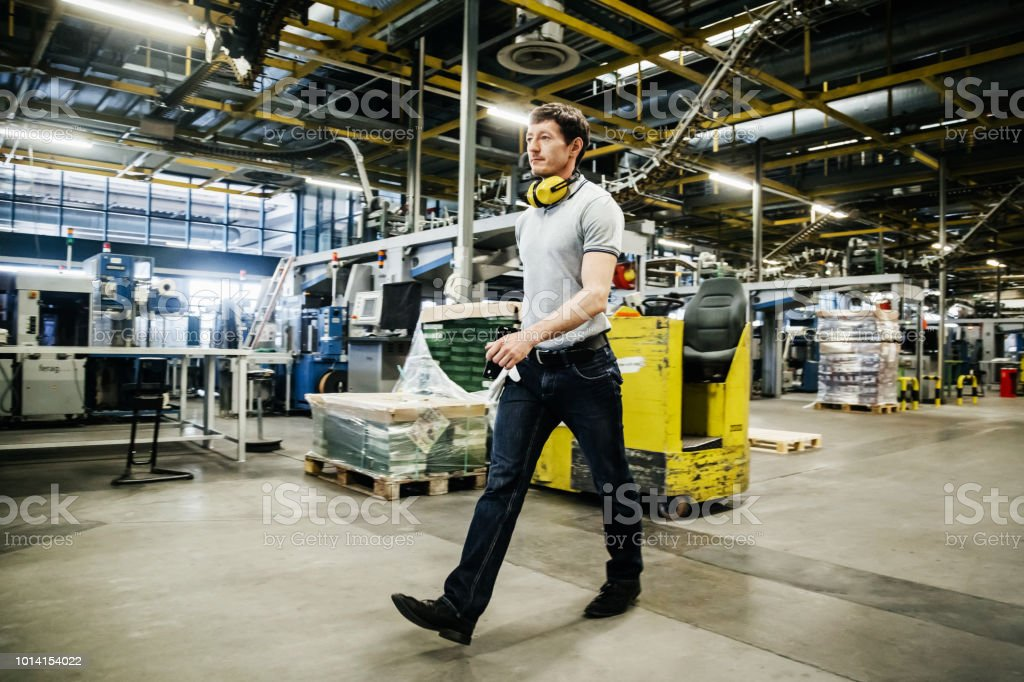person: (381, 103, 642, 644)
